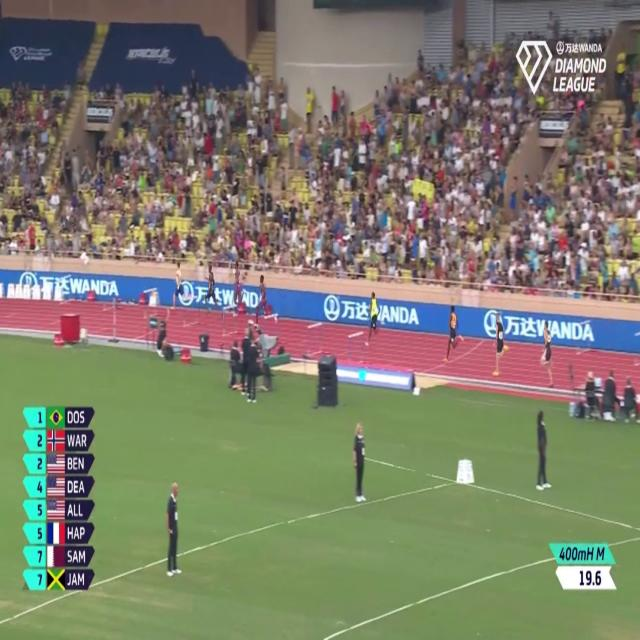athlete: (443, 294, 468, 368), (533, 314, 555, 391), (363, 278, 384, 354), (252, 272, 278, 332), (493, 300, 511, 386), (232, 252, 251, 315), (172, 254, 190, 319), (202, 261, 222, 316)
hurdle: (302, 318, 328, 362), (569, 316, 593, 363), (343, 327, 369, 365), (181, 289, 202, 330), (218, 299, 238, 342), (139, 281, 159, 323), (260, 309, 278, 351), (99, 276, 120, 311)
